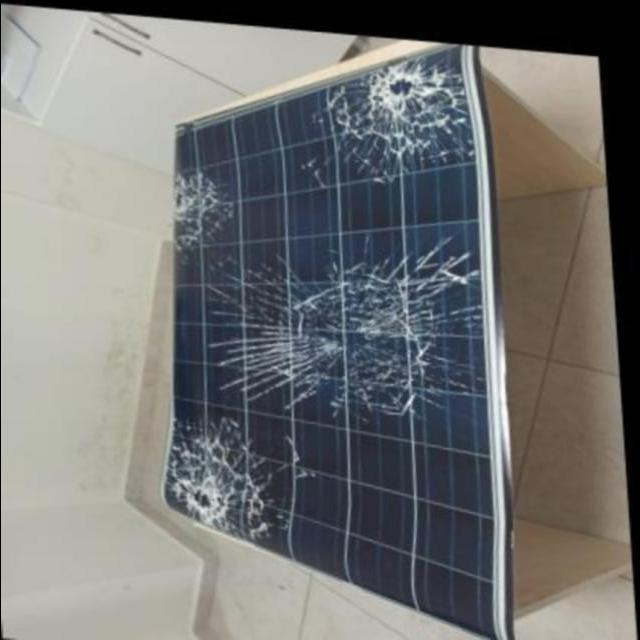cracked: (162, 45, 502, 620)
